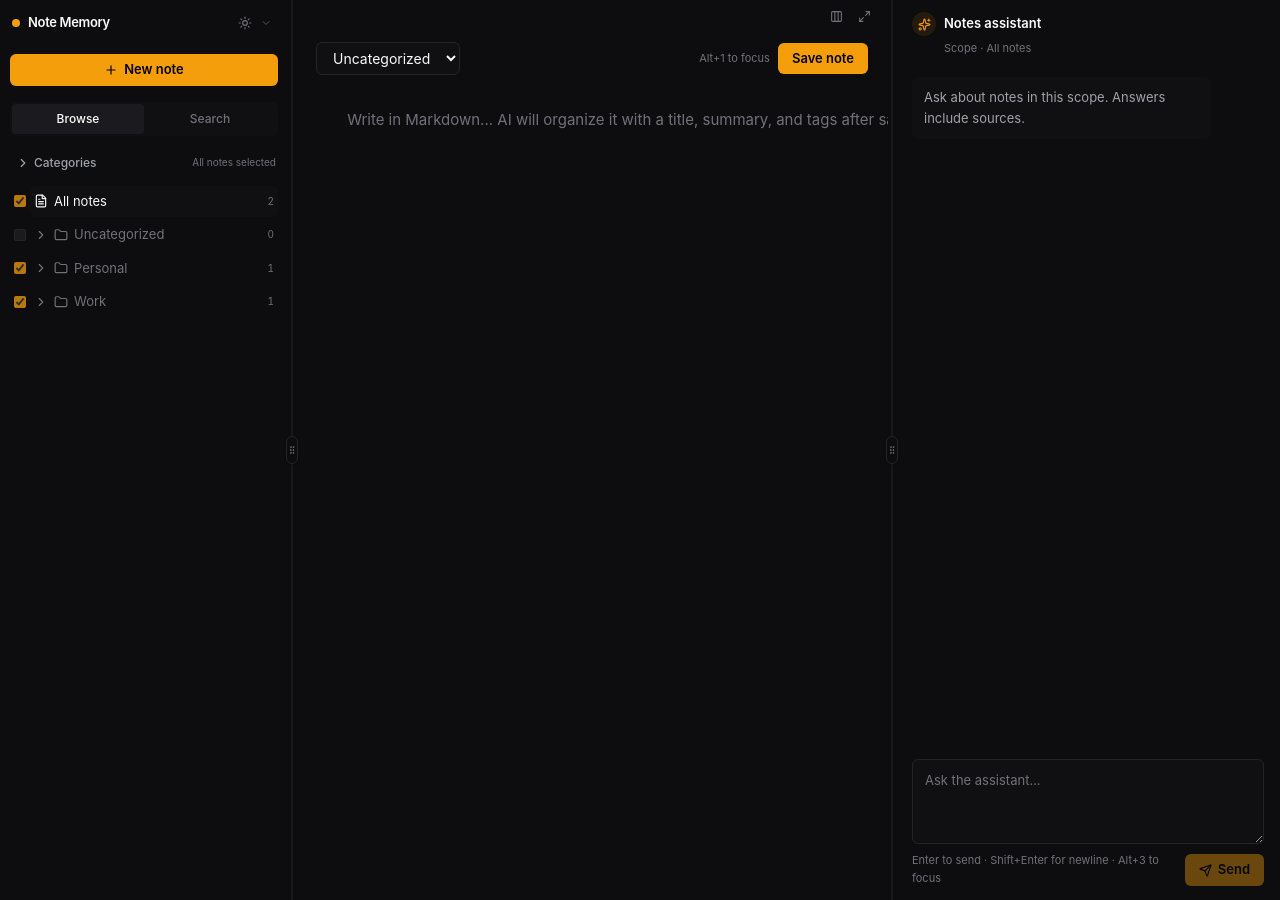
Test: App sidebar navigation › separates browse and search into sidebar tabs
Expected: the button "Work 1" is shown, [30,286,278,318]
Expected: the search field labelled "Search notes" is not shown
Click the tab "Search".
click(210, 118)  # box [144,104,276,134]
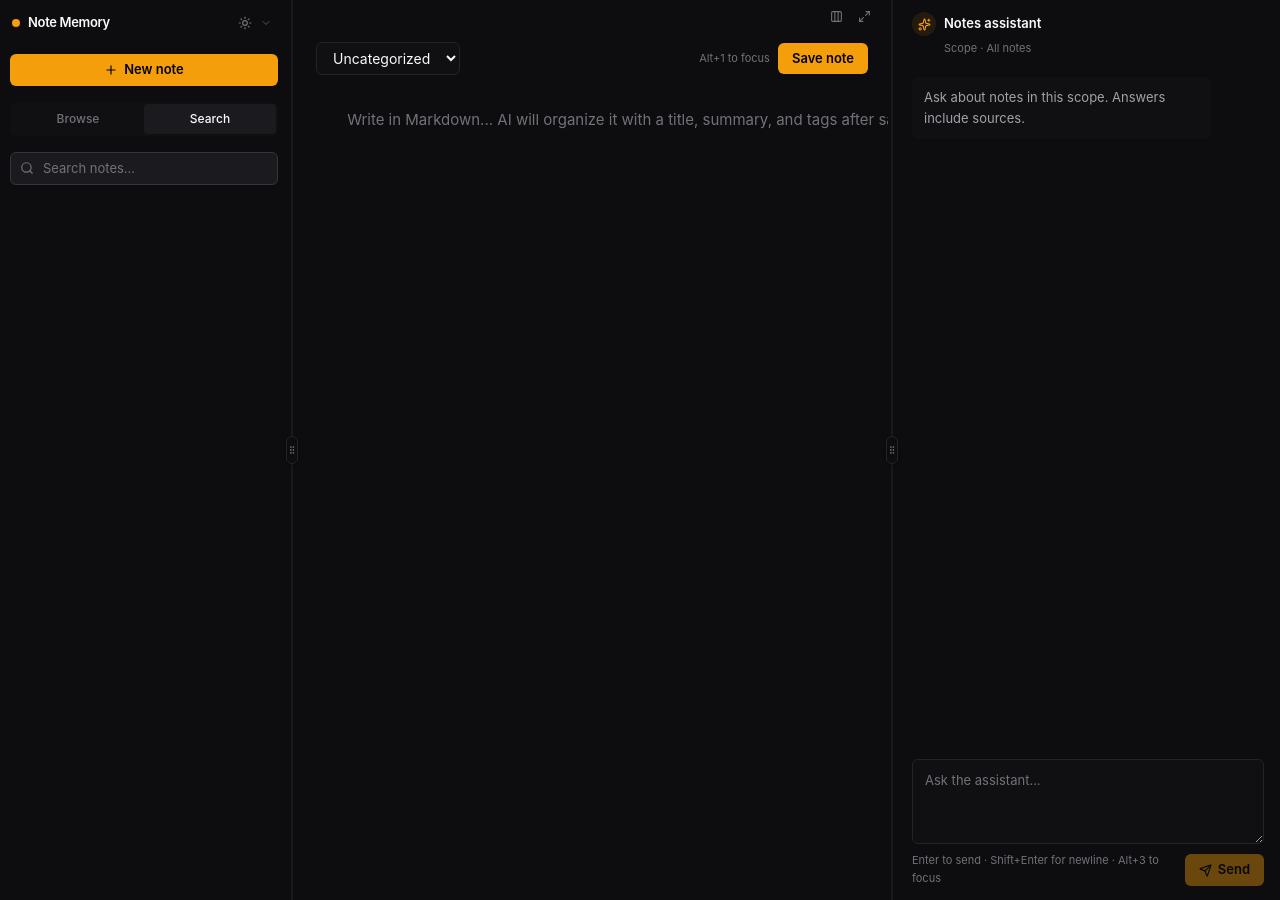
Expected: the search field labelled "Search notes" is shown, [10,152,278,185]
